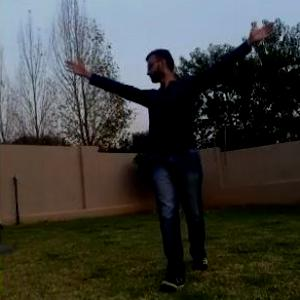takeoff: (71, 22, 271, 272)
